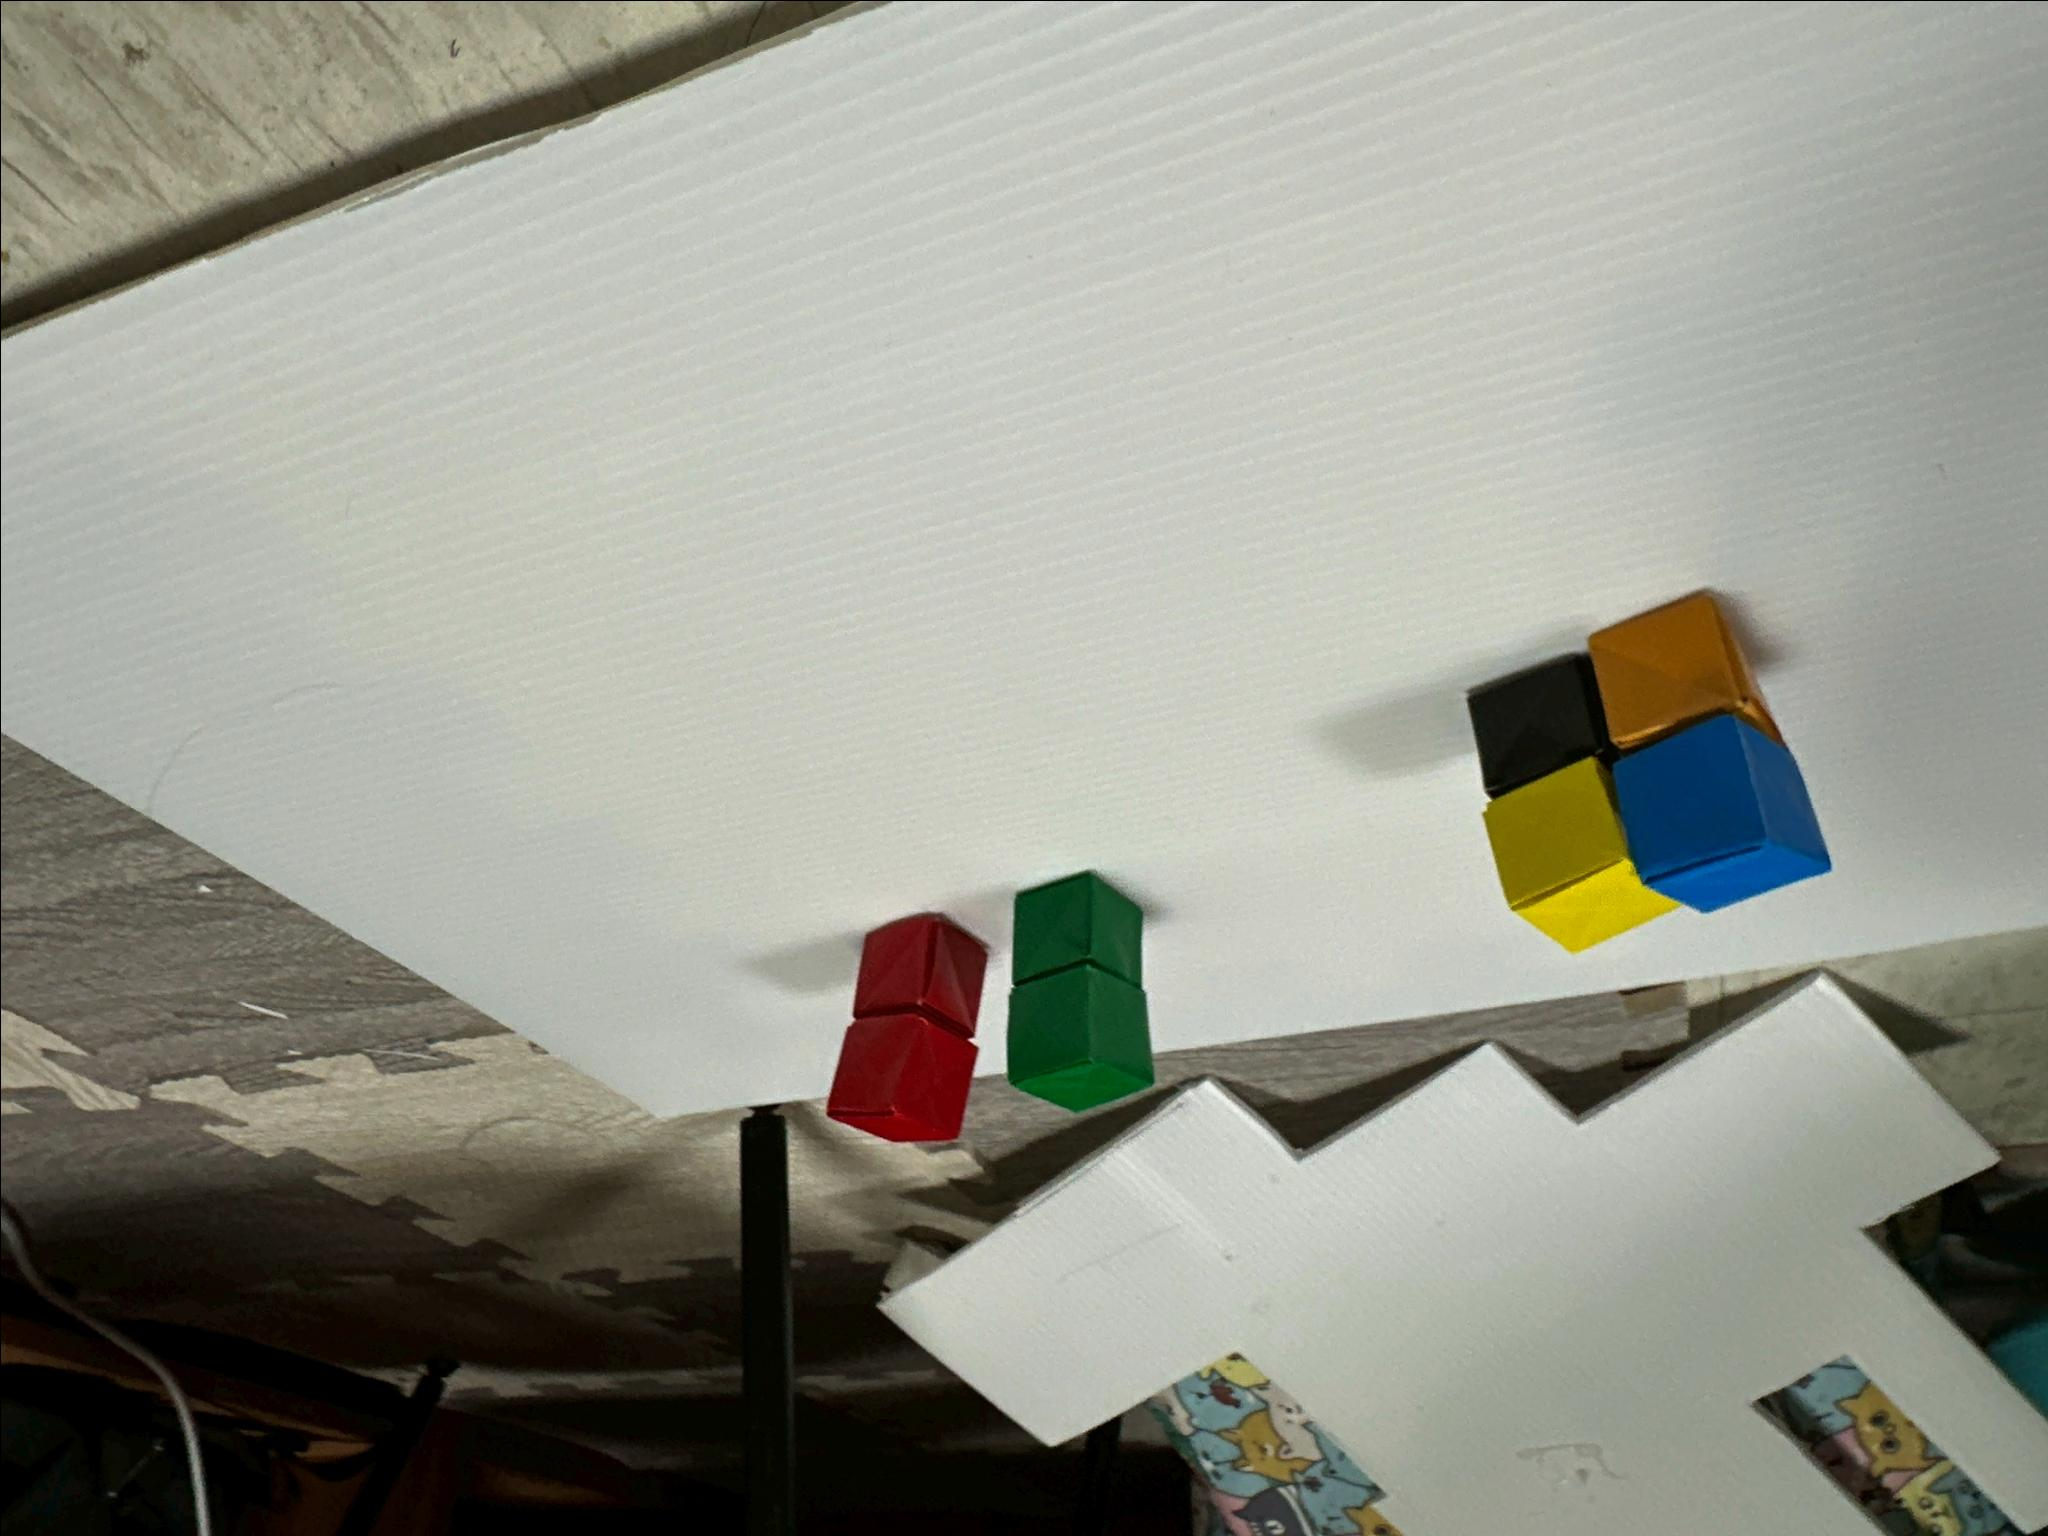base: (1611, 715, 1829, 912), (1484, 755, 1677, 952), (1588, 592, 1782, 752), (1006, 962, 1153, 1110), (1467, 655, 1613, 799), (827, 1010, 976, 1141), (853, 913, 985, 1036), (1011, 873, 1142, 987)
